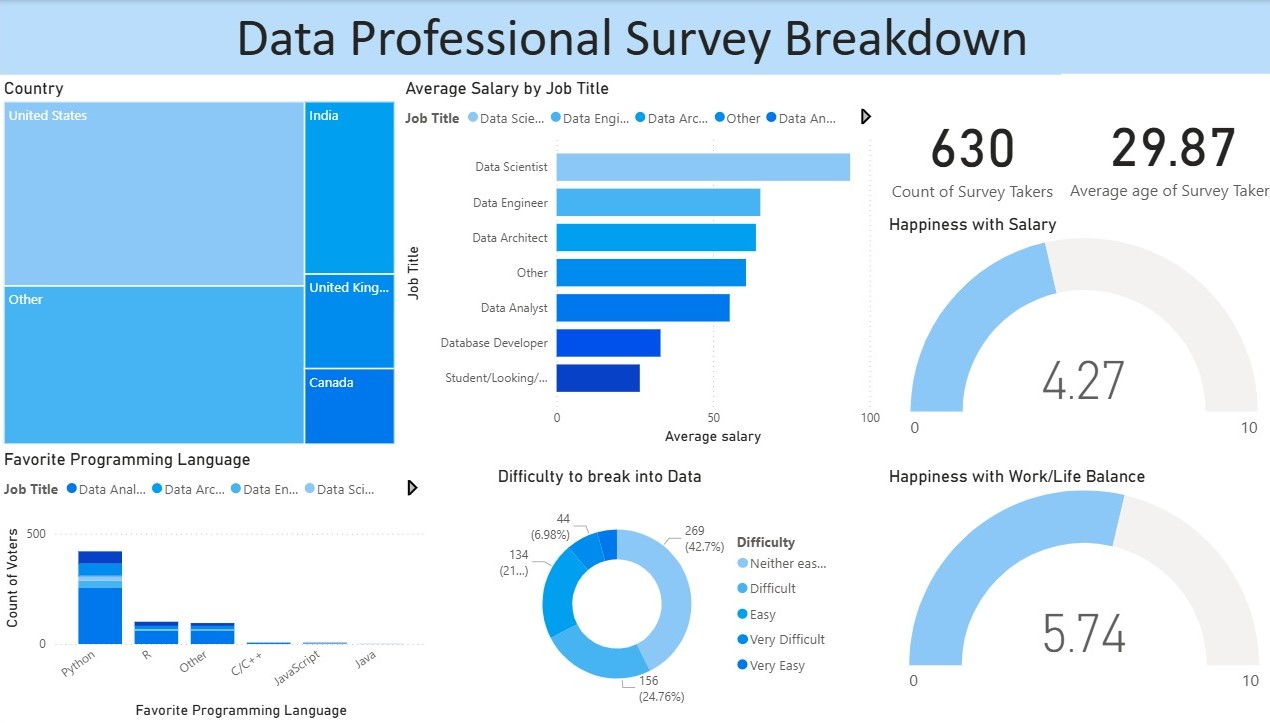

This screenshot's page, from the dashboard's own definition file:
{"tool":"powerbi","page":{"name":"Page 1","canvas":[1280,720],"ordinal":0},"visuals":[{"type":"textbox","box":[0,0,1280.3,74.1],"z":0},{"type":"card","fields":{"Values":["CountNonNull(Data Professional Survey.Unique ID)"]},"box":[881.3,75.1,176.3,153],"z":1000},{"type":"card","fields":{"Values":["Avg(Data Professional Survey.Q10 - Current Age)"]},"box":[1057.6,73.8,222.7,154.4],"z":2000},{"type":"barChart","title":"Average Salary by Job Title","fields":{"Category":["Data Professional Survey.Q1 - Which Title Best Fits your Current Role?.1"],"Y":["Avg(Data Professional Survey.Average salary)"],"Series":["Data Professional Survey.Q1 - Which Title Best Fits your Current Role?.1"]},"box":[399,76.5,482.3,370.3],"z":3000},{"type":"columnChart","title":"Favorite Programming Language","fields":{"Category":["Data Professional Survey.Q5 - Favorite Programming Language.1"],"Y":["CountNonNull(Data Professional Survey.Unique ID)"],"Series":["Data Professional Survey.Q1 - Which Title Best Fits your Current Role?.1"]},"box":[0,446.8,430.4,273.3],"z":4000},{"type":"treemap","title":"Country","fields":{"Group":["Data Professional Survey.Q11 - Which Country do you live in?.1"],"Values":["CountNonNull(Data Professional Survey.Q11 - Which Country do you live in?.1)"]},"box":[0,76.5,399,370.3],"z":5000},{"type":"gauge","title":"Happiness with Work/Life Balance","fields":{"Y":["Avg(Data Professional Survey.Q6 - How Happy are you in your Current Position with the following? (Work/Life Balance))"],"MinValue":["Min(Data Professional Survey.Q6 - How Happy are you in your Current Position with the following? (Work/Life Balance))"],"MaxValue":["Max(Data Professional Survey.Q6 - How Happy are you in your Current Position with the following? (Work/Life Balance))"]},"box":[881.3,464.6,399,235],"z":5001},{"type":"gauge","title":"Happiness with Salary","fields":{"Y":["Avg(Data Professional Survey.Q6 - How Happy are you in your Current Position with the following? (Salary))"],"MinValue":["Min(Data Professional Survey.Q6 - How Happy are you in your Current Position with the following? (Salary))"],"MaxValue":["Max(Data Professional Survey.Q6 - How Happy are you in your Current Position with the following? (Salary))"]},"box":[881.3,213.2,399,233.6],"z":5002},{"type":"donutChart","title":"Difficulty to break into Data","fields":{"Category":["Data Professional Survey.Q7 - How difficult was it for you to break into Data?"],"Y":["CountNonNull(Data Professional Survey.Q7 - How difficult was it for you to break into Data?)"]},"box":[491.9,464.6,349.8,255.5],"z":5003}]}

Visuals, with their boxes in screenshot pixels (x1, y1, x2, y2), scaled from the page's 1280x720 canvas onto the 1270x723 screenshot:
textbox: l=0, t=0, r=1269, b=74
card - CountNonNull(Data Professional Survey.Unique ID): l=874, t=75, r=1049, b=229
card - Avg(Data Professional Survey.Q10 - Current Age): l=1049, t=74, r=1269, b=229
"Average Salary by Job Title" barChart: l=396, t=77, r=874, b=449
"Favorite Programming Language" columnChart: l=0, t=449, r=427, b=722
"Country" treemap: l=0, t=77, r=396, b=449
"Happiness with Work/Life Balance" gauge: l=874, t=467, r=1269, b=703
"Happiness with Salary" gauge: l=874, t=214, r=1269, b=449
"Difficulty to break into Data" donutChart: l=488, t=467, r=835, b=722
